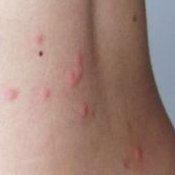Fleas: (70, 53, 85, 86), (75, 101, 92, 118), (132, 145, 147, 161), (4, 88, 19, 103), (39, 87, 53, 102), (34, 32, 45, 45)
